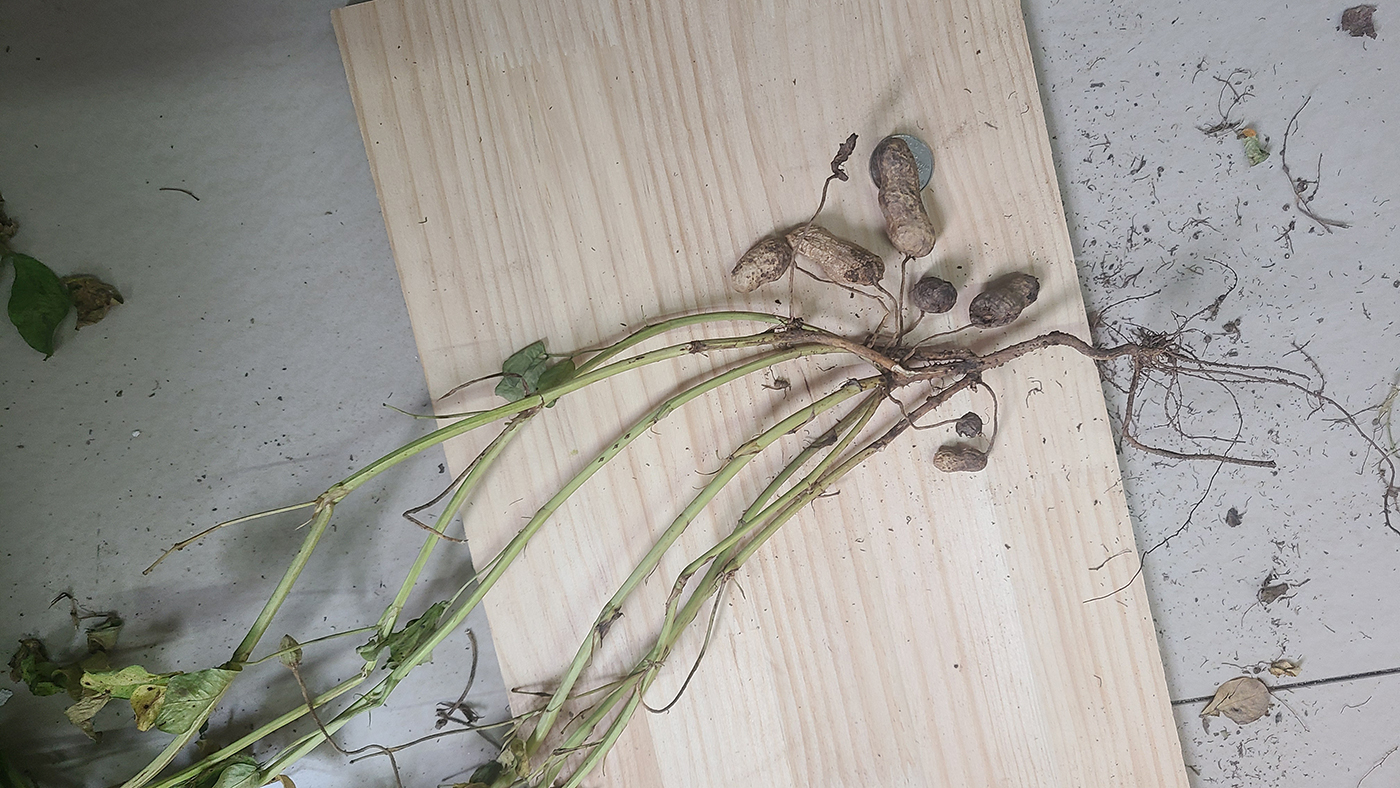h: (731, 237, 791, 291)
l: (874, 138, 938, 258), (788, 224, 886, 286), (969, 271, 1039, 328), (829, 130, 860, 183), (913, 276, 957, 312), (933, 447, 986, 474), (955, 412, 986, 438)
